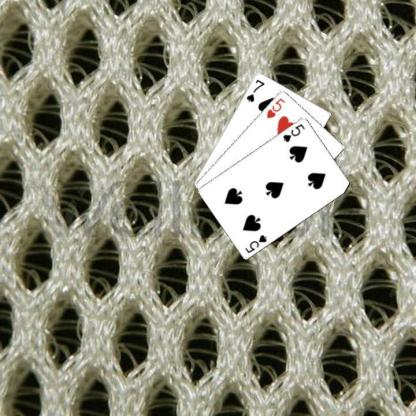5H: (264, 95, 287, 120)
5S: (280, 121, 306, 143), (243, 232, 268, 254)
7S: (244, 76, 266, 104)
